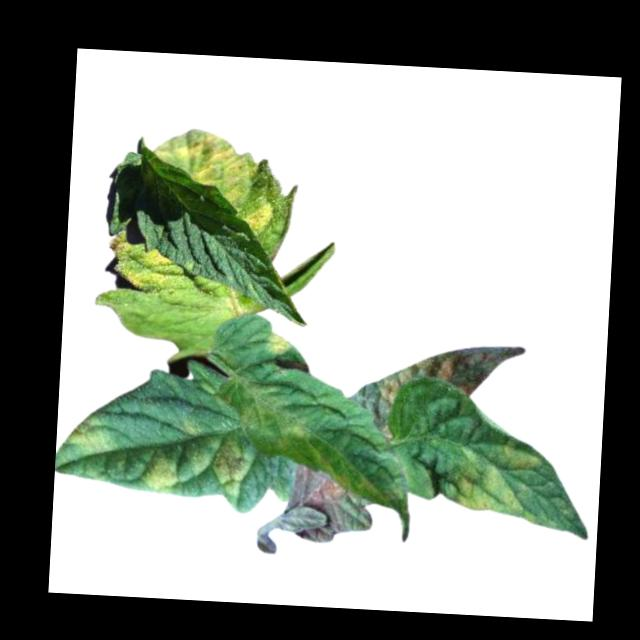Leaf_Mold: (348, 336, 529, 438), (149, 125, 277, 236), (447, 438, 545, 523), (282, 461, 376, 546), (103, 233, 171, 291), (201, 430, 250, 497), (137, 450, 182, 498), (62, 414, 108, 454), (263, 327, 290, 359)
